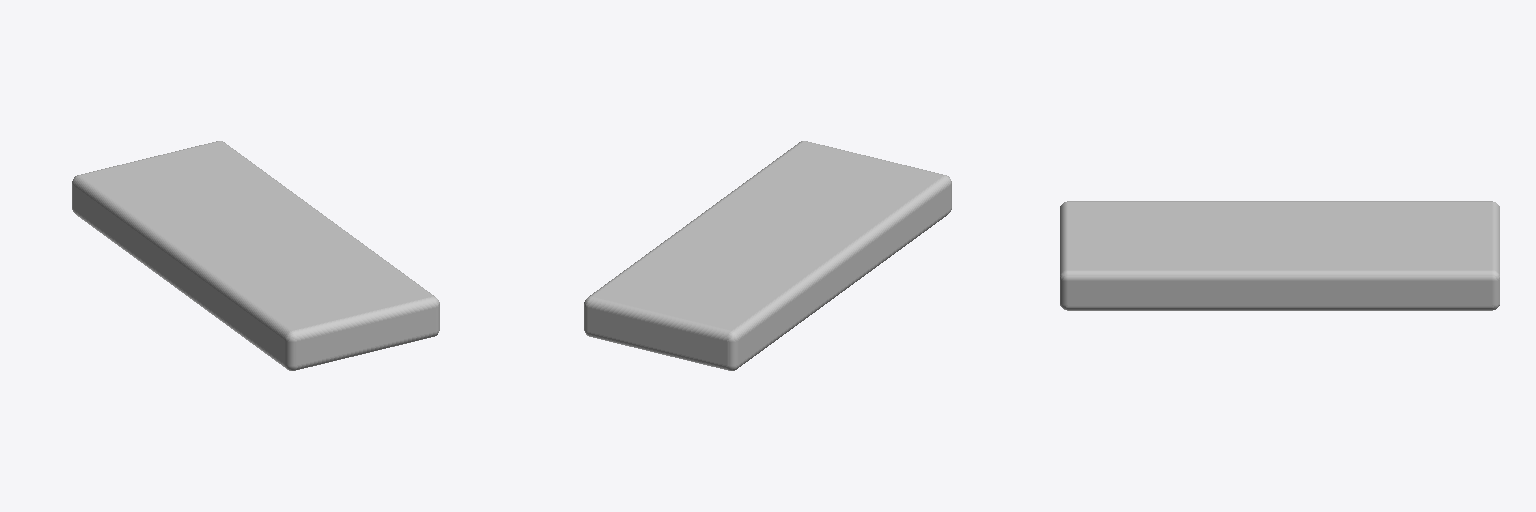
The model's file is MATRESS_1.obj.
The picture shows the model from 3 angles: view 1: azimuth 30°, elevation 25°; view 2: azimuth 150°, elevation 25°; view 3: azimuth 270°, elevation 25°; orthographic projection.
Parts seen in each view (by area): view 1: Cube.012_Cube.006; view 2: Cube.012_Cube.006; view 3: Cube.012_Cube.006.
Boxes of the visible parts, x1=… form: Cube.012_Cube.006: x1=72, y1=141, x2=439, y2=370; Cube.012_Cube.006: x1=584, y1=141, x2=951, y2=370; Cube.012_Cube.006: x1=1060, y1=201, x2=1499, y2=310.
Size of the model in its own units: 0.8141 by 0.2017 by 2.02.